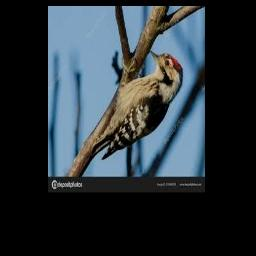Woodpecker: (91, 50, 183, 160)
